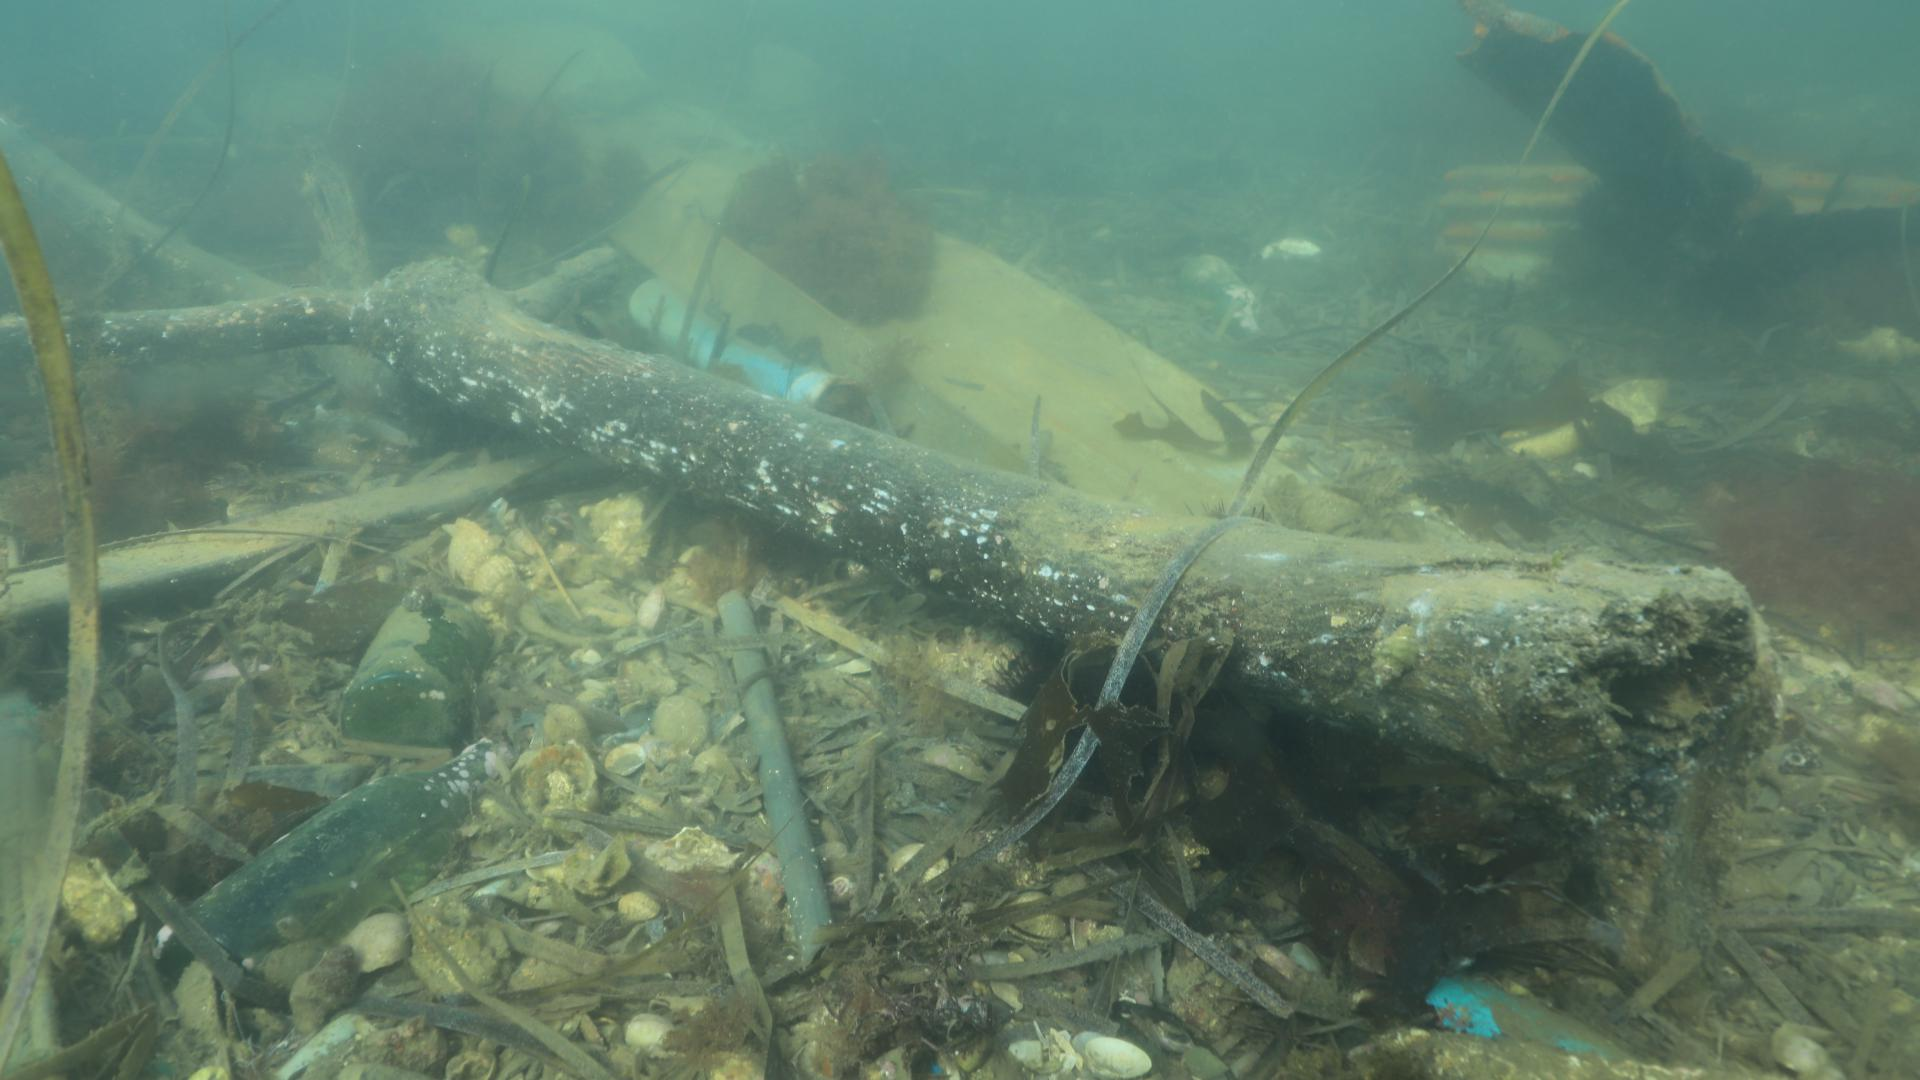wood: (0, 115, 1799, 839)
